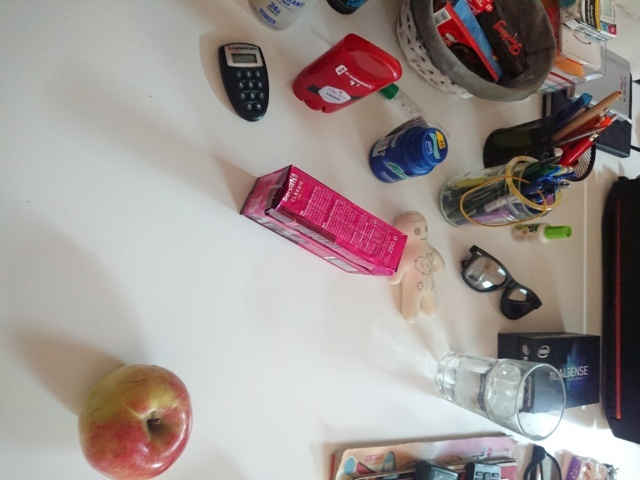Barcaffe Classic Original 225g: (238, 162, 410, 278)
